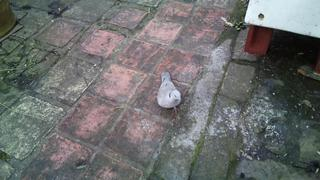collared dove: (157, 72, 182, 115)
